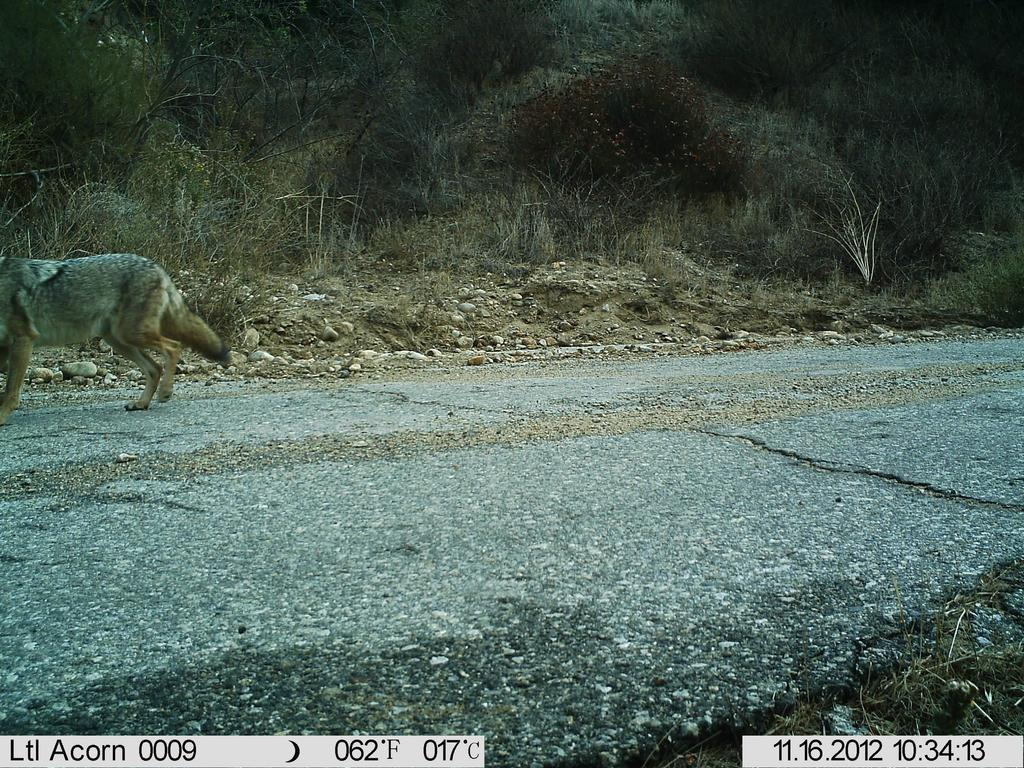coyote: (1, 227, 246, 453)
